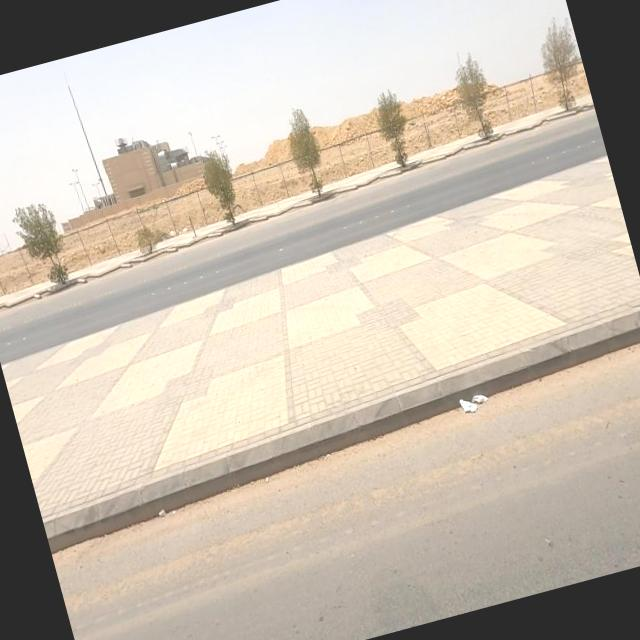debris: (422, 314, 526, 460)
